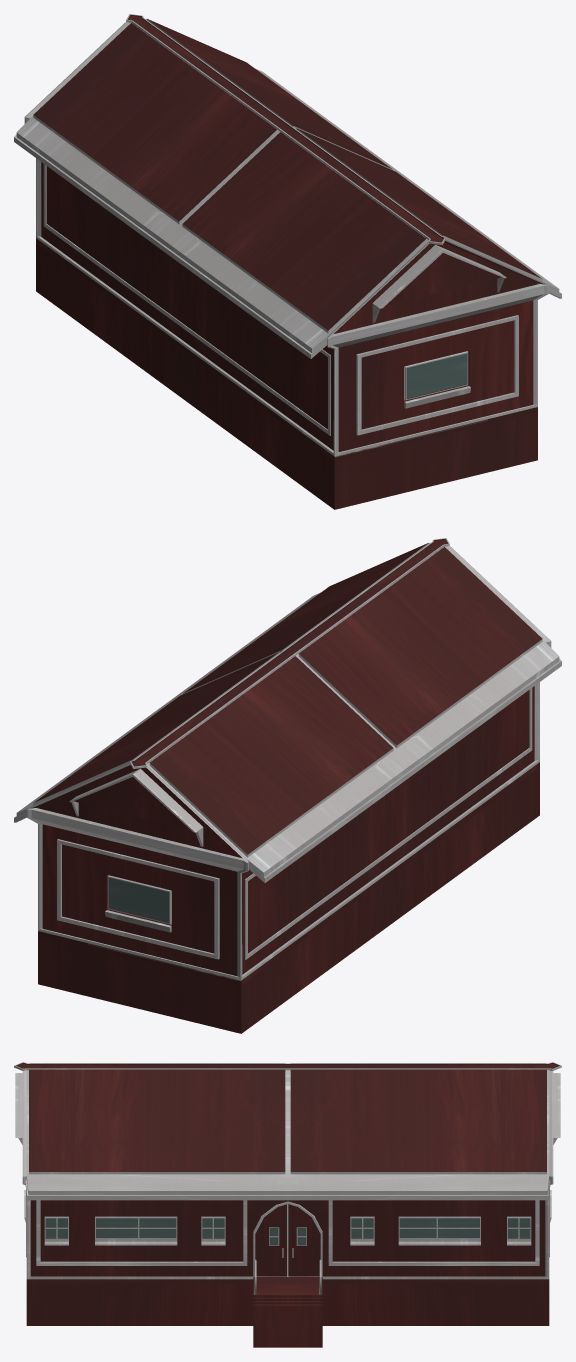
The model's file is AltBarn.fbx.
3 views of the same model, one above another, from view 1: azimuth 30°, elevation 25°; view 2: azimuth 150°, elevation 25°; view 3: azimuth 270°, elevation 25° (orthographic). The views are drawn at different scales.
Parts seen in each view (by area): view 1: Cube; view 2: Cube; view 3: Cube.
Boxes of the visible parts, x1,y1,x2,y2 form: Cube: [14, 14, 561, 509]; Cube: [14, 538, 561, 1033]; Cube: [14, 1062, 561, 1347].
Bounding box in the file's own units: 2502 × 2135 × 4899.
